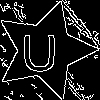U: (20, 25, 59, 72)
